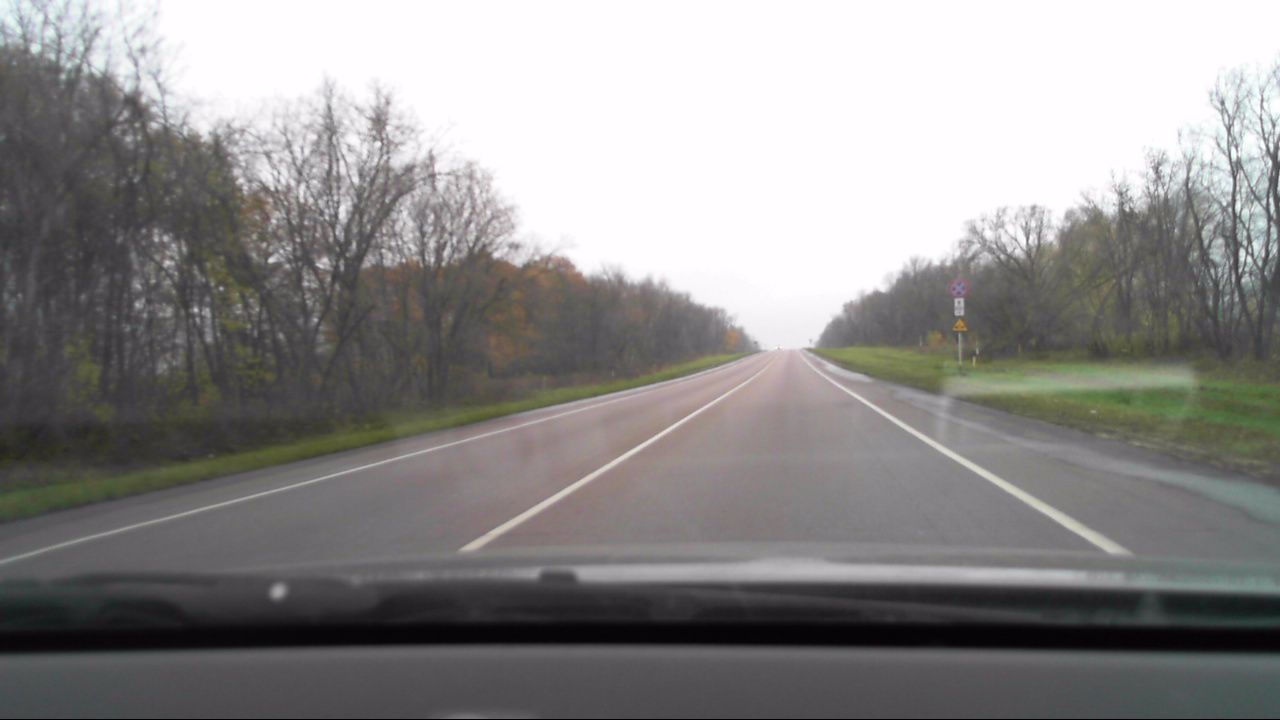No Parking: (949, 280, 968, 298)
